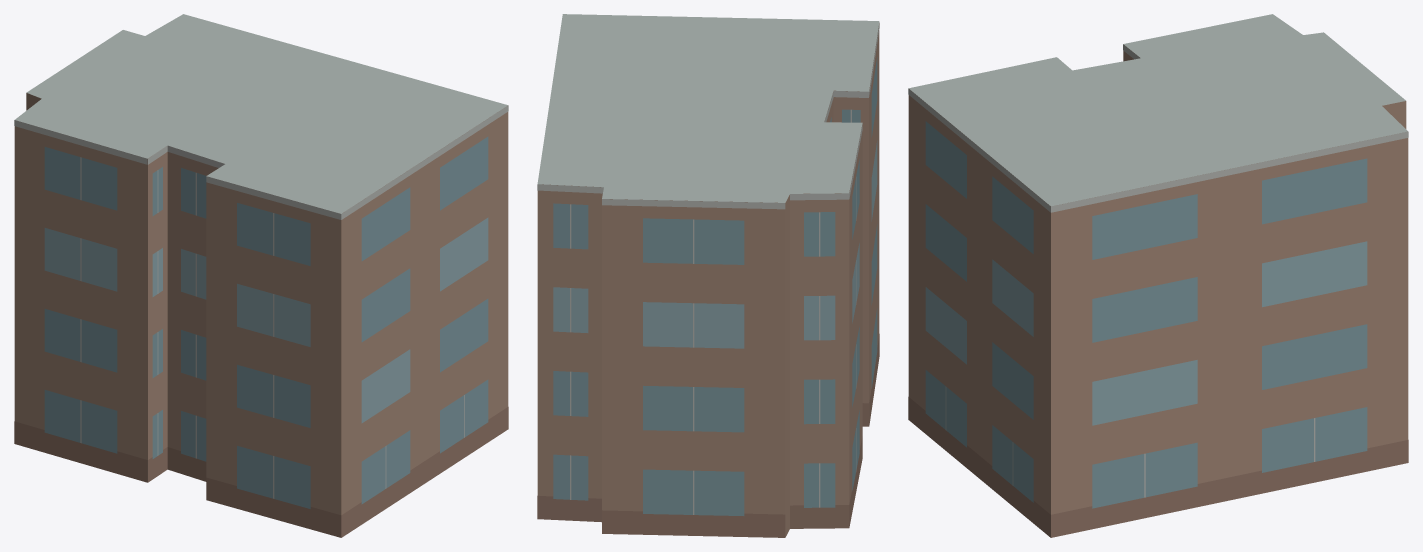
The model's file is survey-upis-32904942.glb.
3 views of the same model, side by side, from view 1: azimuth 30°, elevation 25°; view 2: azimuth 150°, elevation 25°; view 3: azimuth 270°, elevation 25° (orthographic). The views are drawn at different scales.
Parts seen in each view (by area): view 1: survey-upis-32904942.tmp; view 2: survey-upis-32904942.tmp; view 3: survey-upis-32904942.tmp.
Boxes of the visible parts, x1,y1,x2,y2 form: survey-upis-32904942.tmp: (14, 14, 508, 537); survey-upis-32904942.tmp: (537, 14, 879, 537); survey-upis-32904942.tmp: (908, 14, 1408, 537).
Size of the model in its own units: 15.95 by 12.8 by 17.51.
